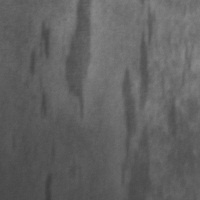inclusion: (117, 62, 159, 199), (61, 1, 95, 126), (134, 4, 155, 114), (27, 18, 56, 80), (162, 86, 184, 141), (36, 75, 52, 120), (40, 169, 55, 199)
